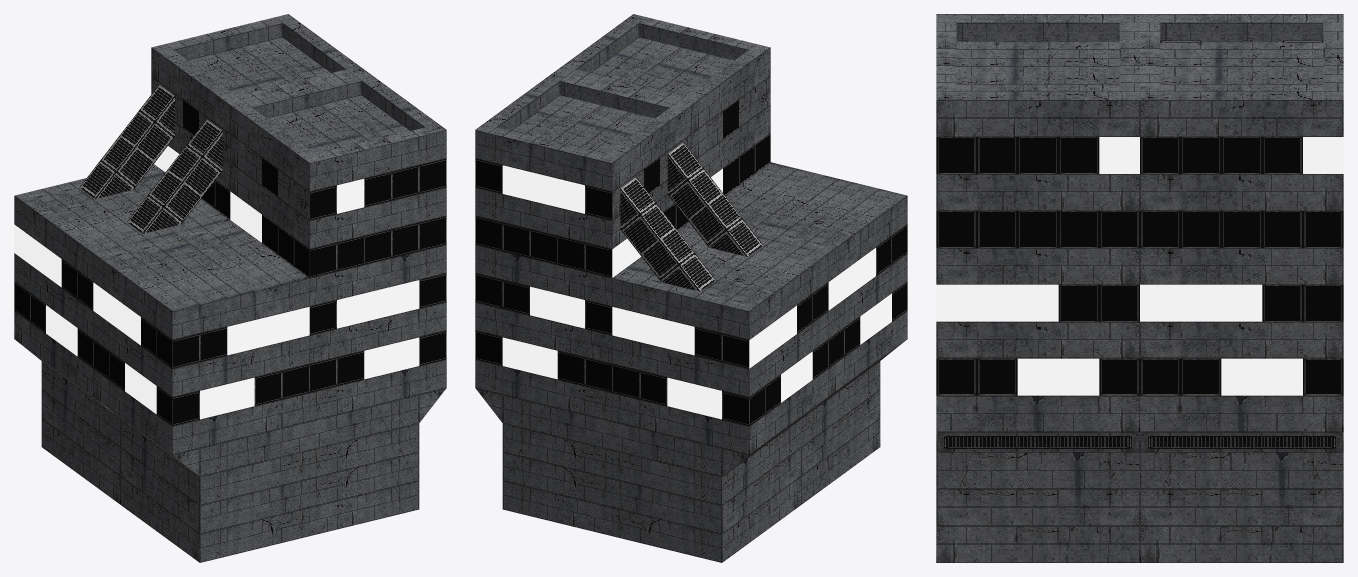
Rendered from Building1tile.glb.
3 renders of one model, left to right at view 1: azimuth 30°, elevation 25°; view 2: azimuth 150°, elevation 25°; view 3: azimuth 270°, elevation 25°, orthographic. The views are drawn at different scales.
Visible parts, largest first — view 1: Cube.005; view 2: Cube.005; view 3: Cube.005.
Part boxes in pixels (left/top/right/bottom): Cube.005: left=14, top=14, right=446, bottom=562; Cube.005: left=475, top=14, right=907, bottom=562; Cube.005: left=936, top=14, right=1343, bottom=562.
Size of the model in its own units: 2.03 by 2.64 by 2.03.
2 materials, 1 textured.
